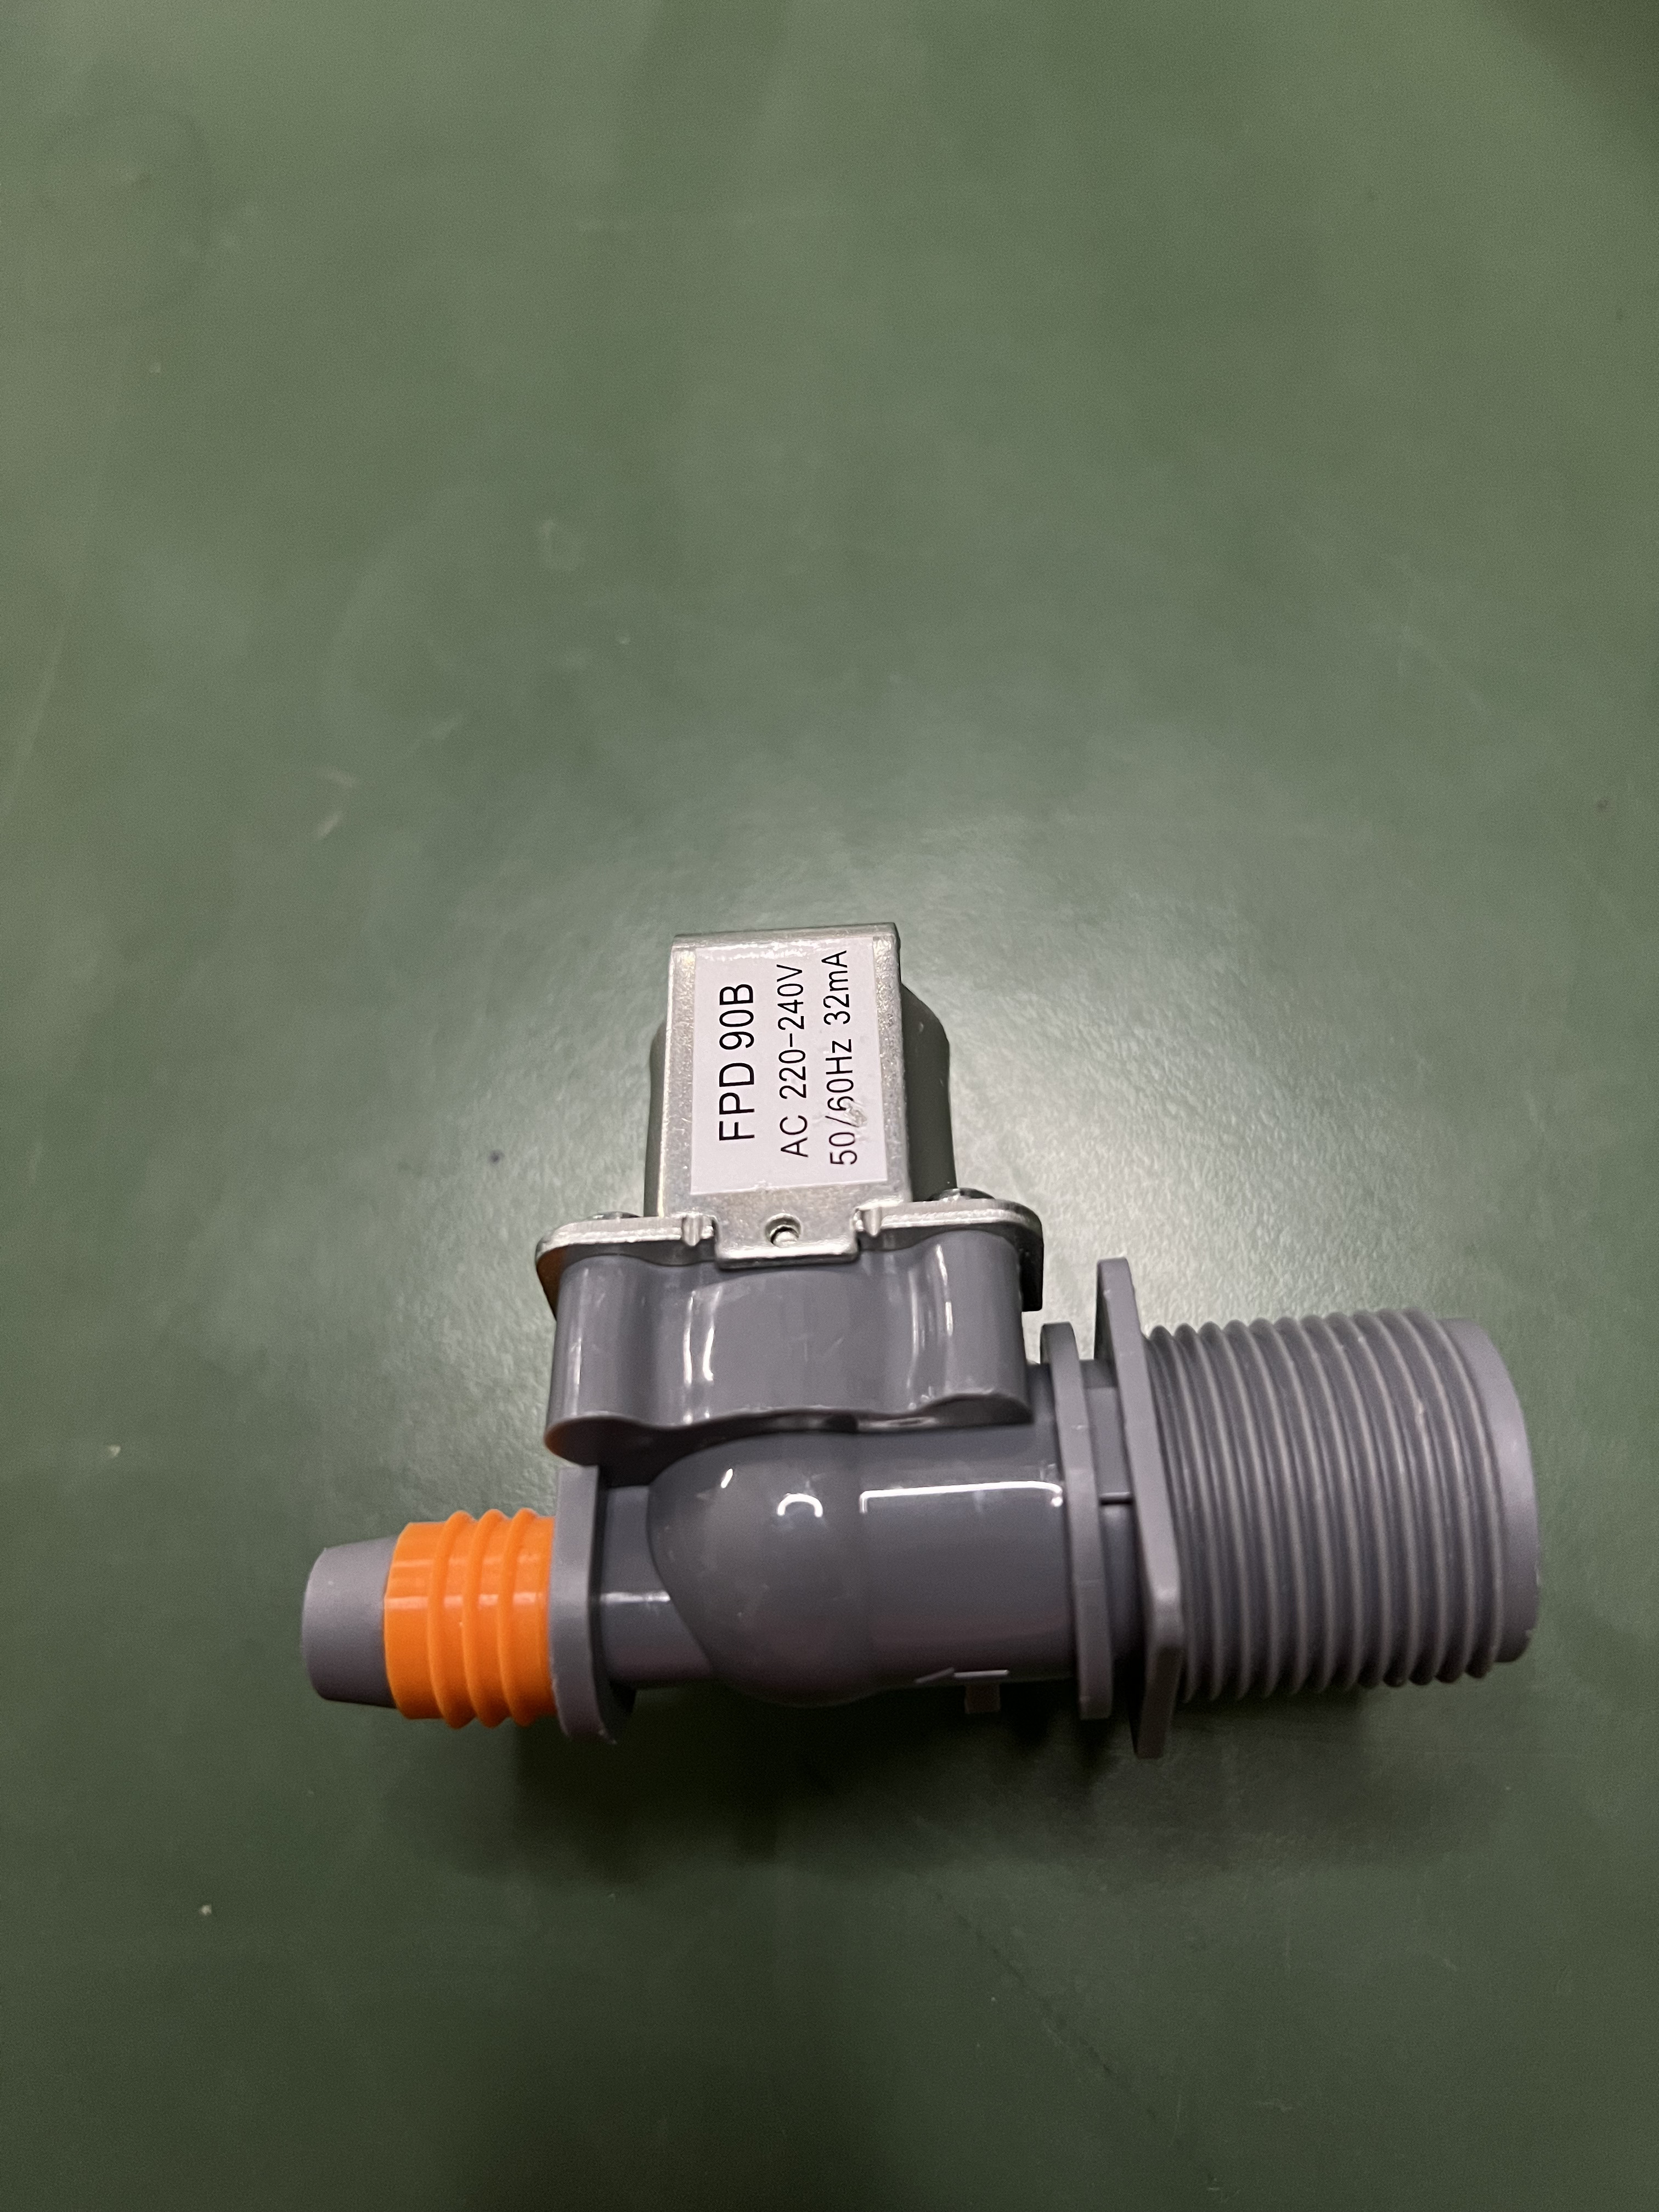inlet_valves: (293, 923, 1586, 1770)
